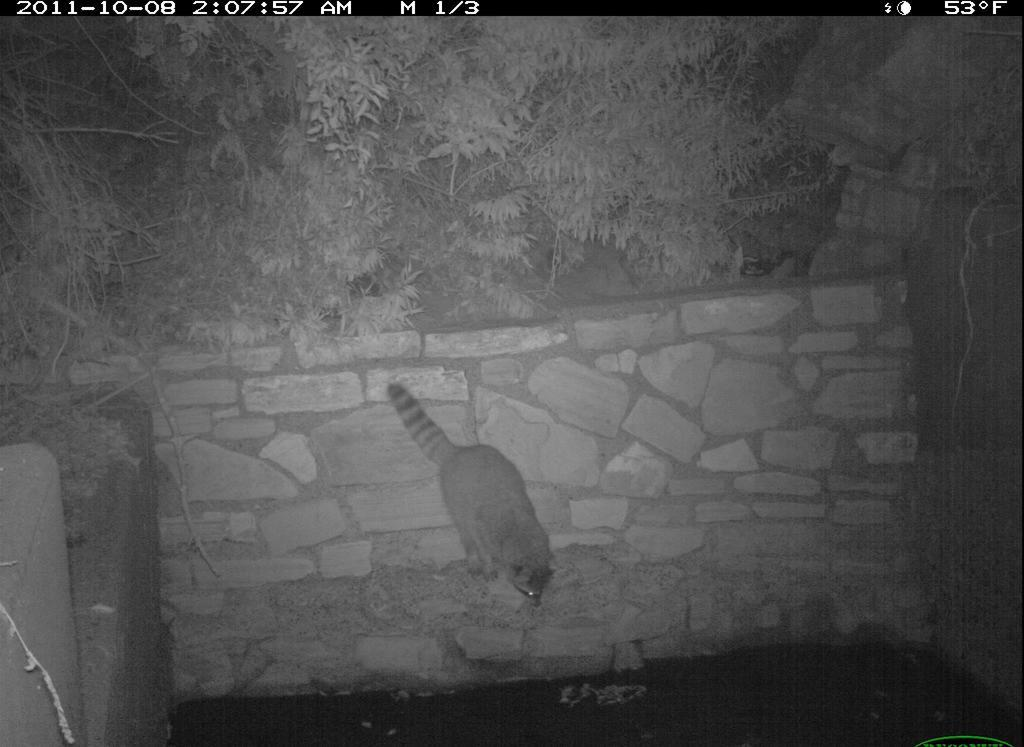raccoon: (370, 376, 575, 624)
